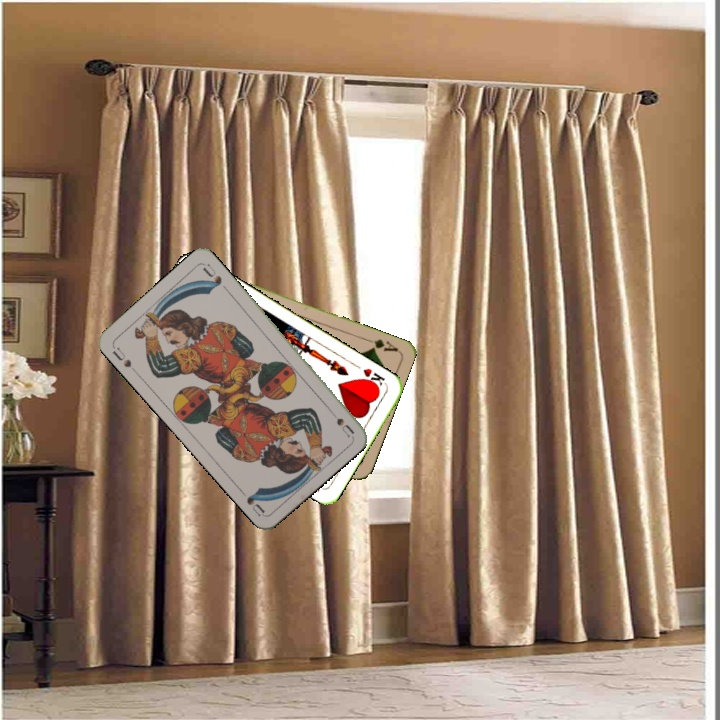GA: (361, 334, 401, 354)
HK: (358, 364, 389, 391)
SU: (324, 404, 357, 439), (108, 343, 134, 370)
